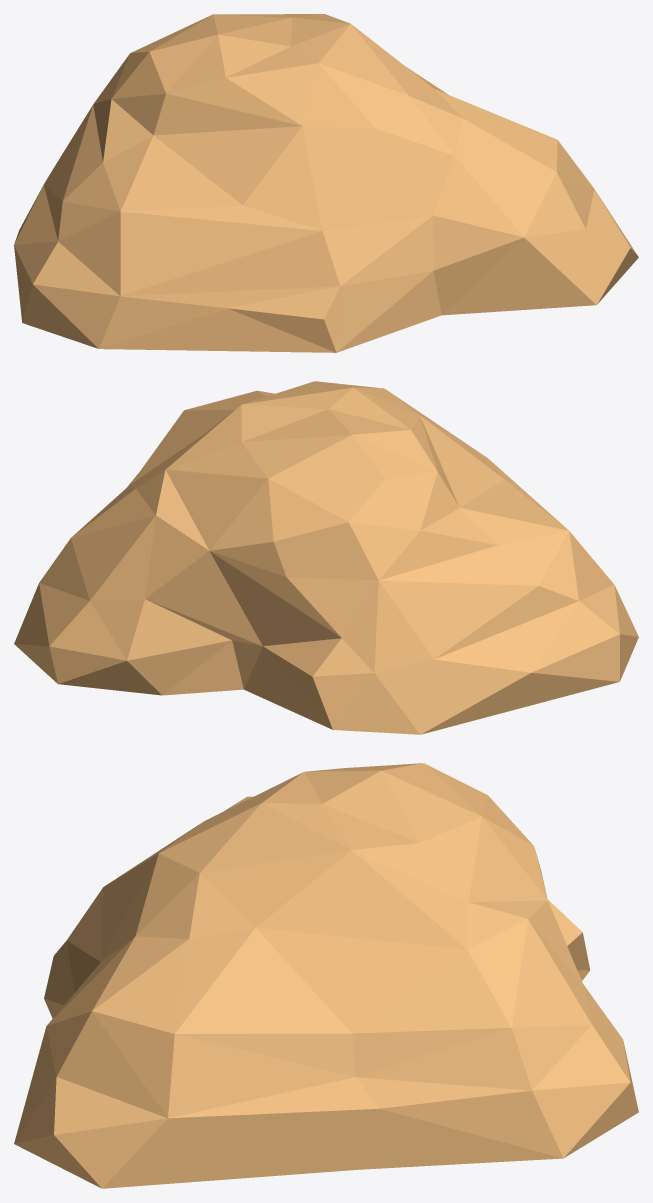
The model's file is SFM_BS_Dough.fbx.
3 views of the same model, one above another, from view 1: azimuth 30°, elevation 25°; view 2: azimuth 150°, elevation 25°; view 3: azimuth 270°, elevation 25° (orthographic). The views are drawn at different scales.
Parts seen in each view (by area): view 1: SFM_BS_Dough; view 2: SFM_BS_Dough; view 3: SFM_BS_Dough.
Boxes of the visible parts, <box> form: SFM_BS_Dough: <box>14,14,638,352</box>; SFM_BS_Dough: <box>14,381,638,734</box>; SFM_BS_Dough: <box>14,763,638,1188</box>.
Size of the model in its own units: 34.47 by 14.15 by 30.01.
